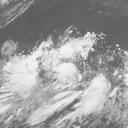cyclone: (21, 50, 106, 118)
